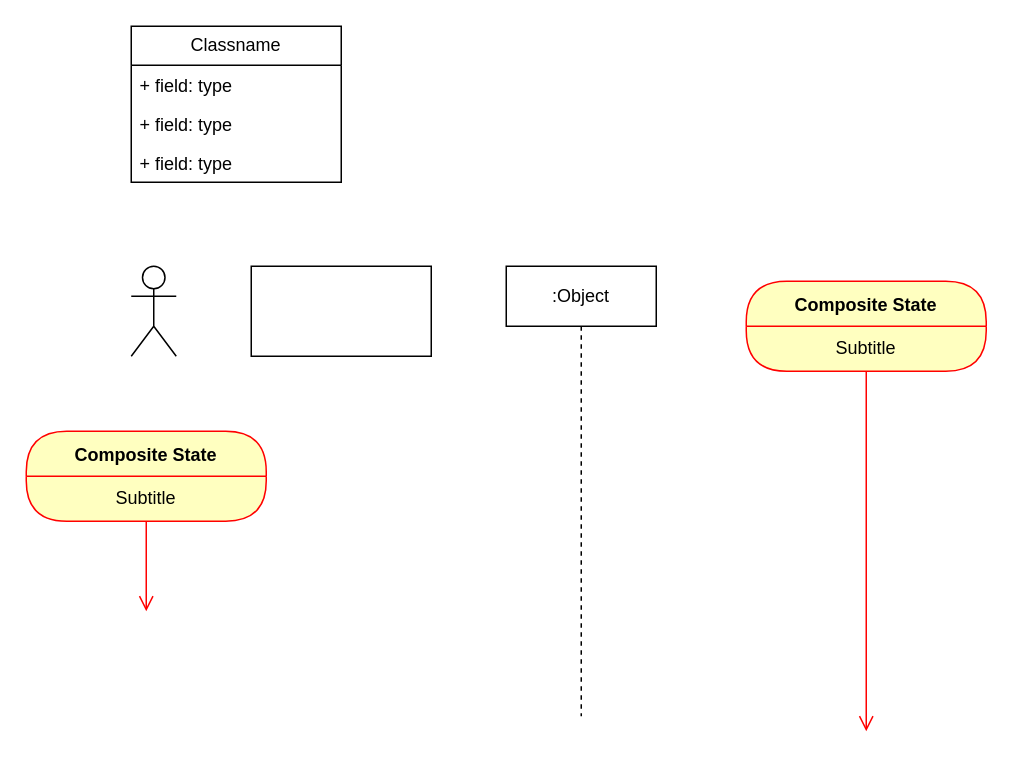
The diagram is 1013 pixels wide and 773 high, and some of its shapes have lost their labels. Here are the shapes that lost their labels. From the top down, the centre of each, then its label:
(x=153, y=310): Actor
(x=340, y=310): EuiccManager
